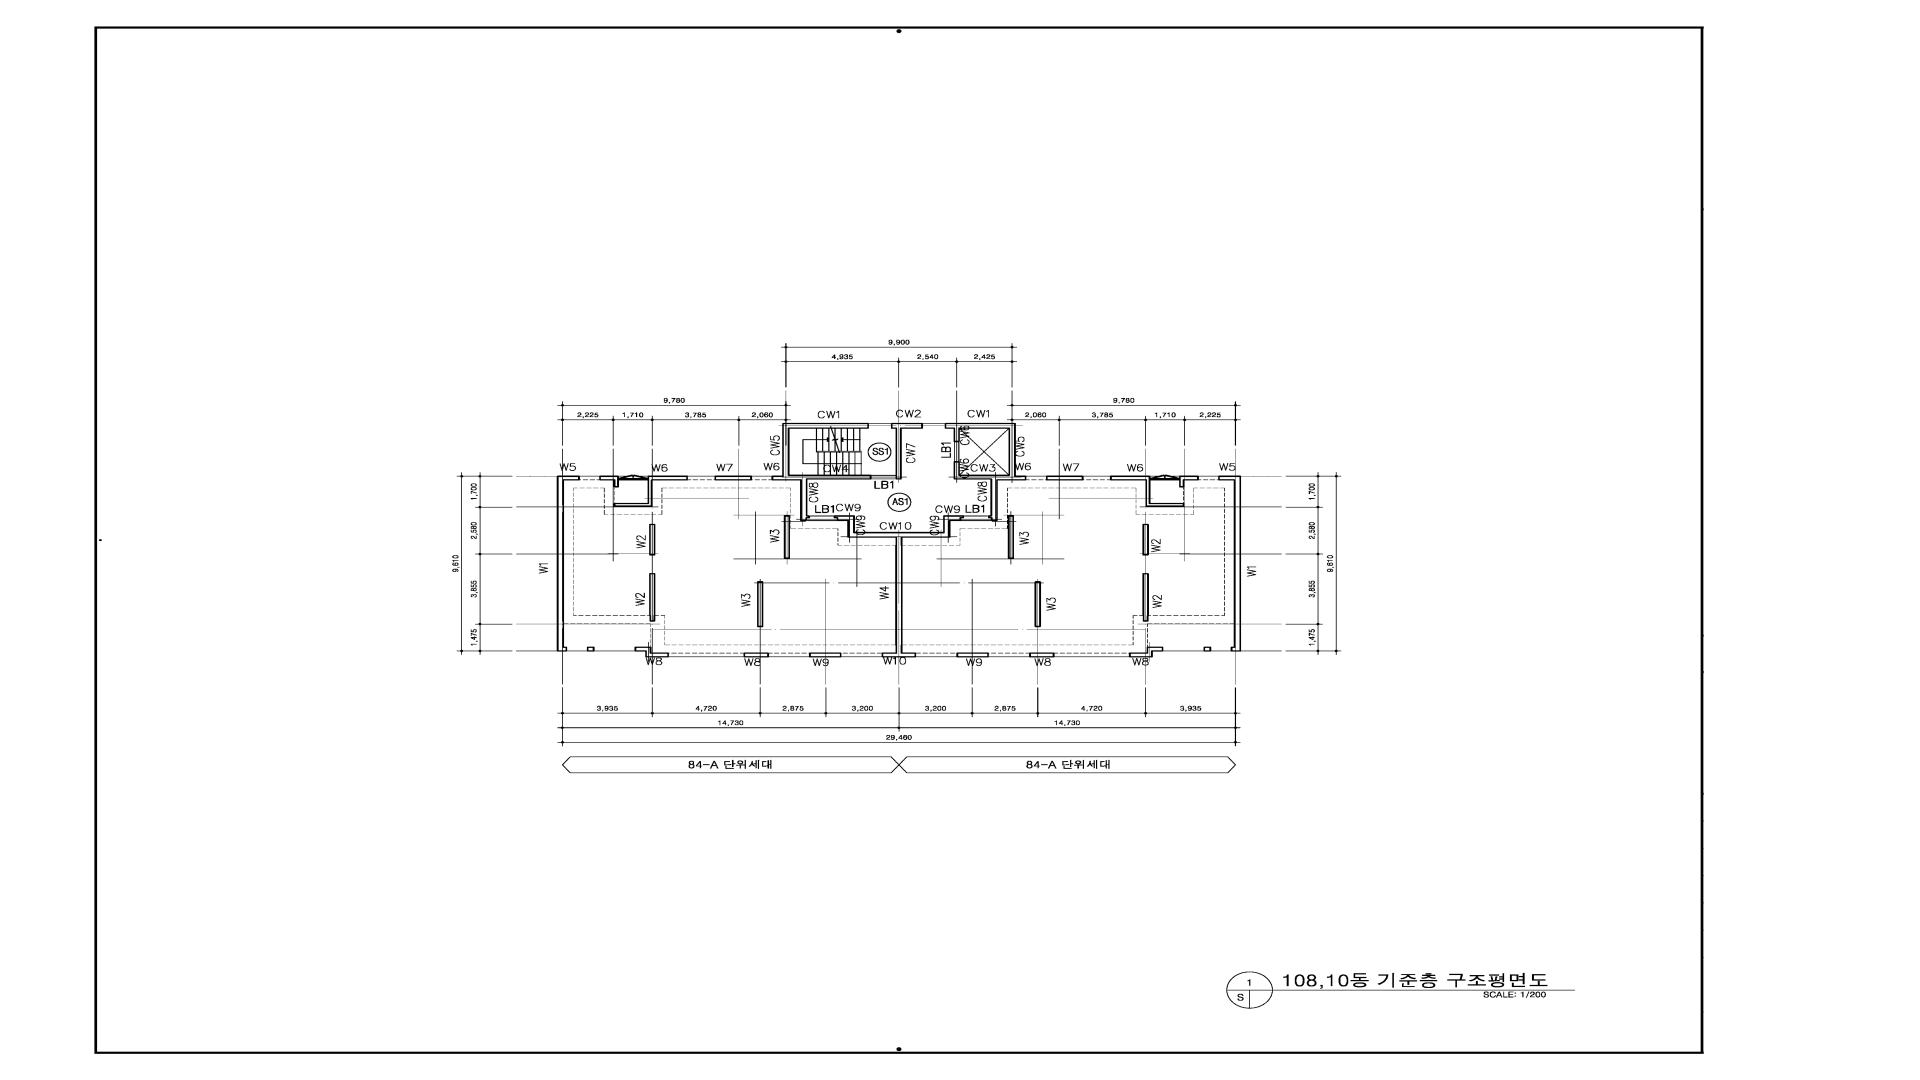door: (619, 474, 648, 481), (1151, 474, 1179, 481)
wall: (834, 515, 964, 657), (772, 423, 871, 521), (945, 423, 1026, 521), (557, 476, 580, 652), (1218, 476, 1241, 652), (613, 475, 688, 507), (1110, 475, 1184, 507), (891, 423, 923, 479), (634, 647, 669, 657), (1142, 573, 1149, 622), (1129, 647, 1163, 657), (1034, 581, 1041, 627), (649, 573, 655, 622), (757, 581, 763, 627), (784, 515, 790, 559), (1008, 515, 1014, 559), (1142, 524, 1149, 556), (599, 476, 619, 487), (1179, 476, 1199, 487), (649, 524, 655, 555), (956, 652, 989, 657), (809, 652, 841, 657), (807, 516, 837, 521), (961, 516, 991, 521), (715, 476, 752, 480), (1046, 476, 1083, 480), (1029, 653, 1055, 658), (744, 652, 769, 657), (871, 475, 896, 479), (954, 442, 959, 462), (587, 647, 595, 652), (1204, 647, 1211, 652)
